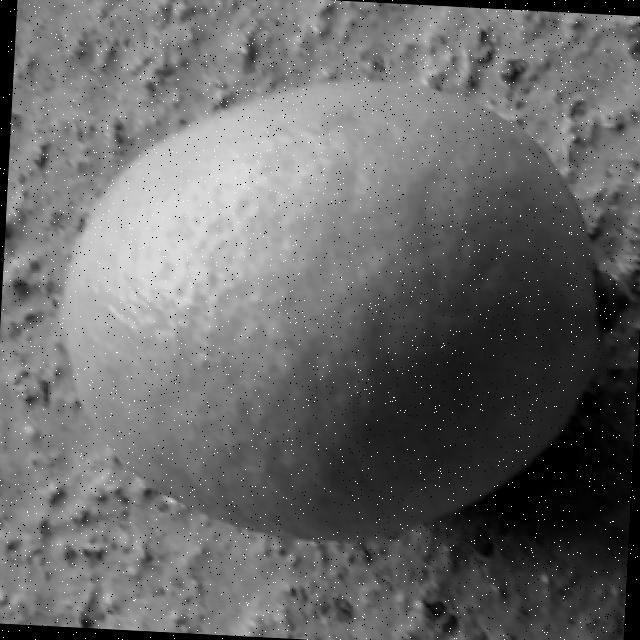Ripe: (42, 58, 635, 561)
